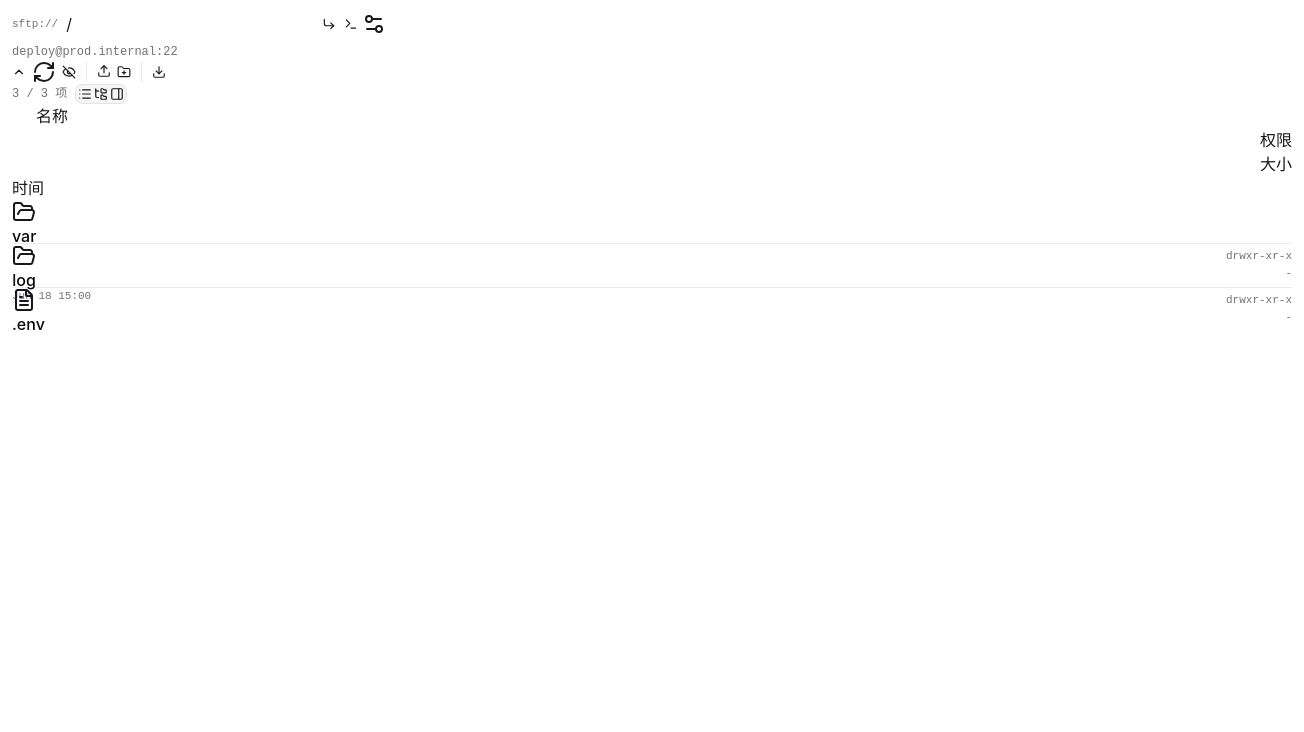
Test case: SftpToolContent browser modes › switches between list, tree, and workspace modes without removing the list default
Expected: the element with test id "sftp-remote-entry-list" is shown, [12, 200, 1292, 332]
Click the button with test id "sftp-browser-mode-tree" at [101, 94], box [94, 87, 108, 101]
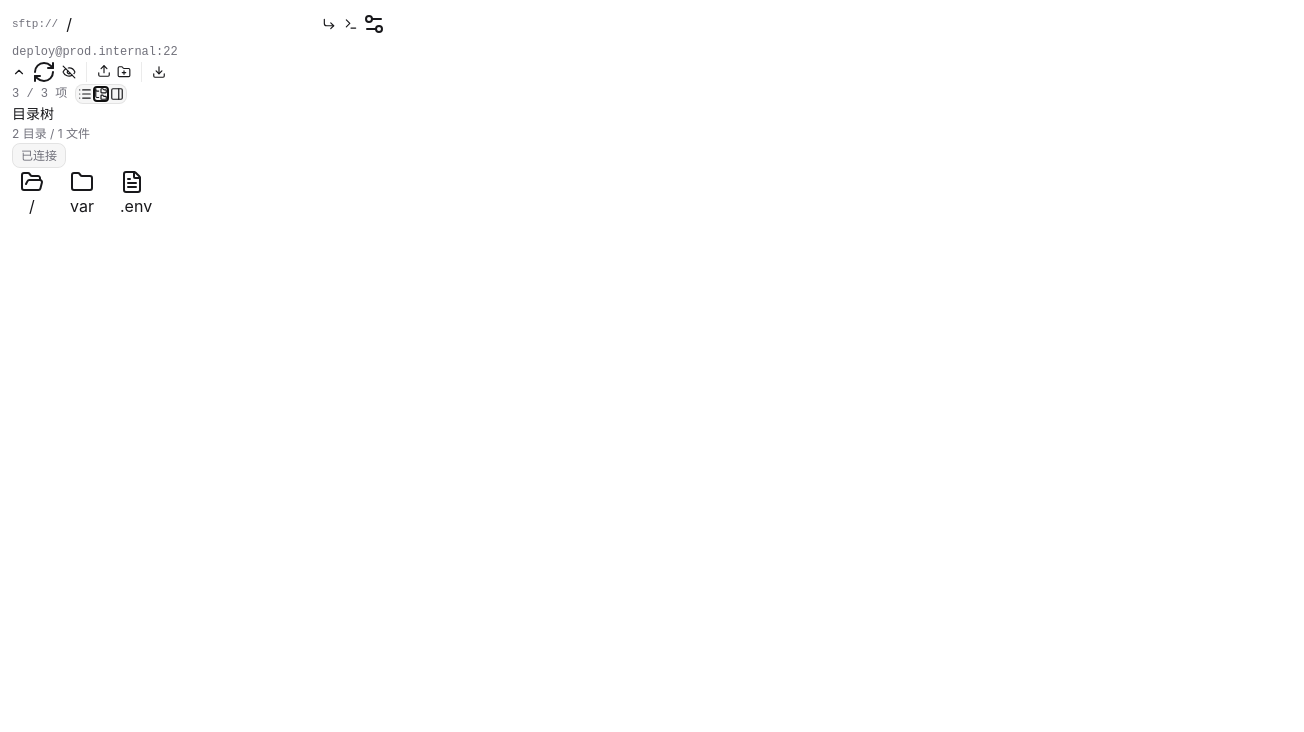
Expected: the element with test id "sftp-remote-entry-list" is gone
Expected: the element named "SFTP 目录树" is shown, [12, 170, 152, 218]
Expected: the text "目录树" is shown, [12, 105, 54, 122]
Click the button with test id "sftp-browser-mode-workspace" at [117, 94], box [110, 87, 124, 101]
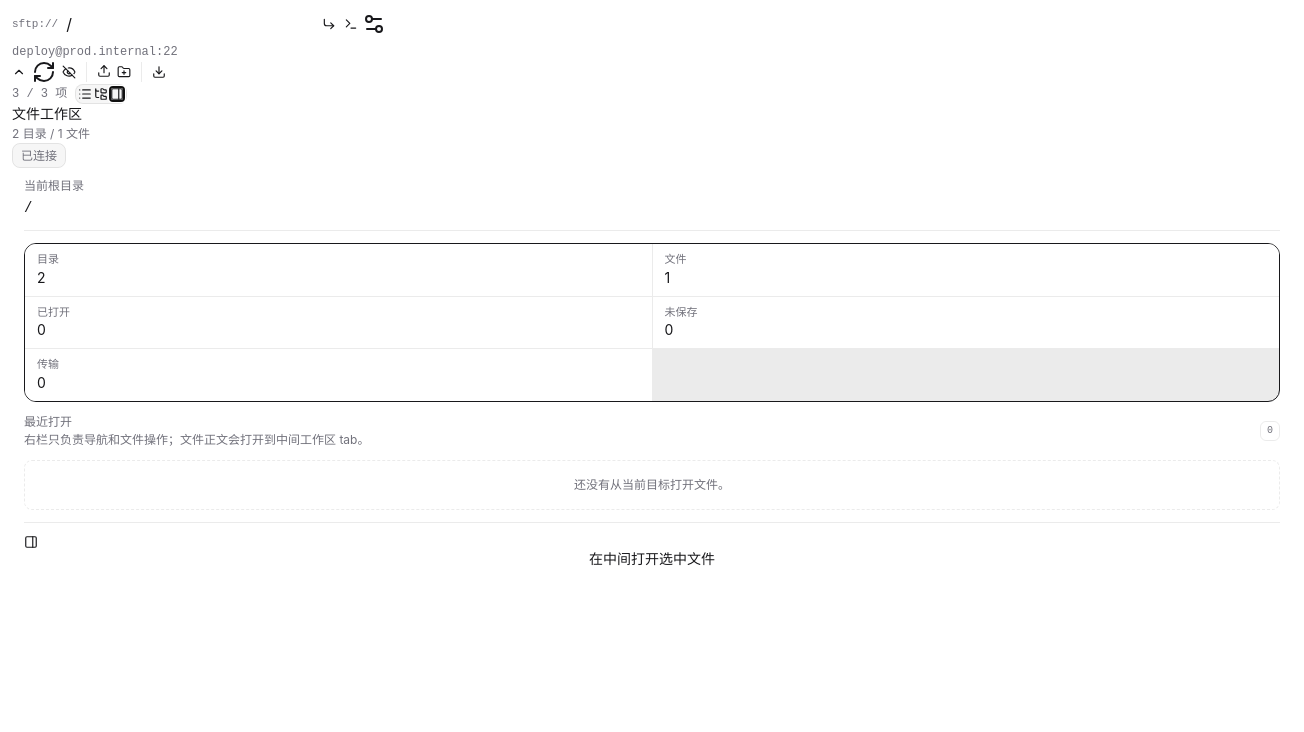
Expected: the text "文件工作区" is shown, [12, 105, 82, 122]
Expected: the text "当前根目录" is shown, [24, 178, 84, 193]
Expected: the text "右栏只负责导航和文件操作；文件正文会打开到中间工作区 tab。" is shown, [24, 432, 370, 448]
Click the button with test id "sftp-browser-mode-list" at [85, 94], box [78, 87, 92, 101]
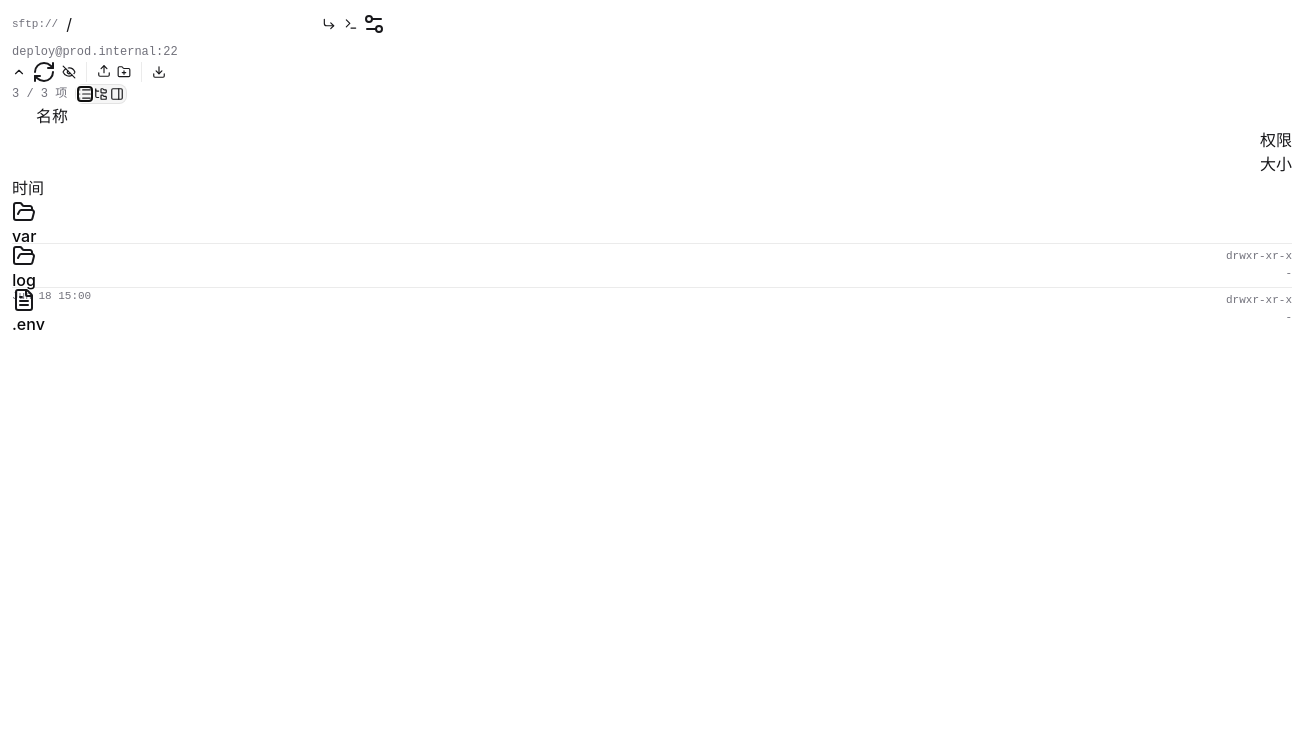
Expected: the element with test id "sftp-remote-entry-list" is shown, [12, 200, 1292, 332]
